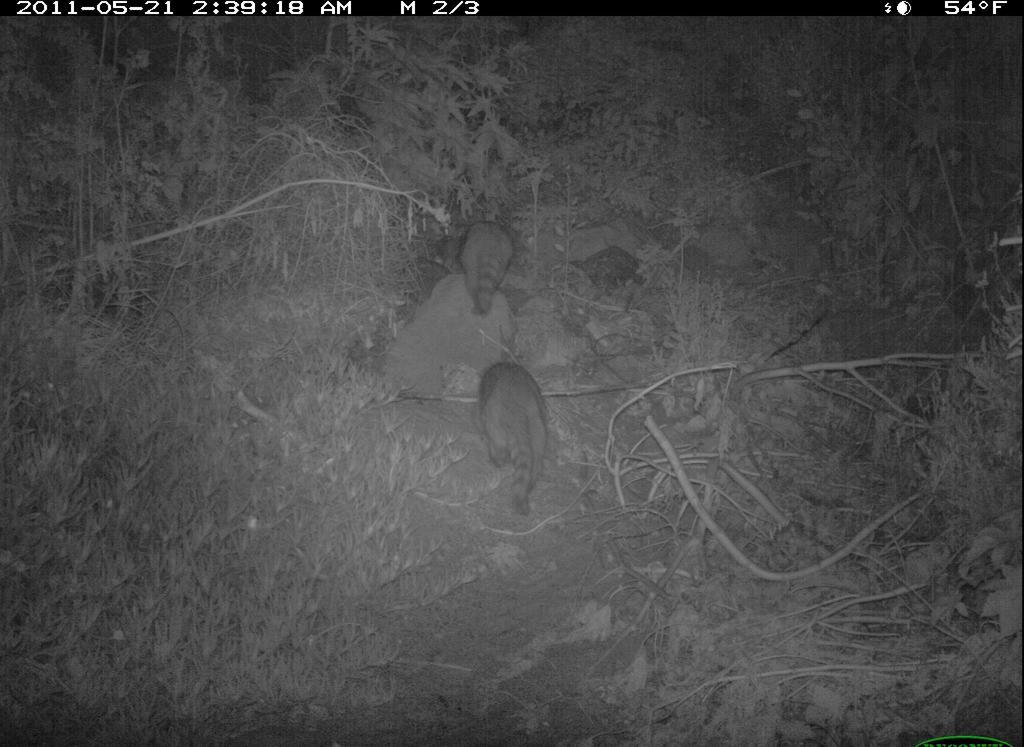raccoon: (474, 353, 555, 519), (454, 212, 518, 324)
